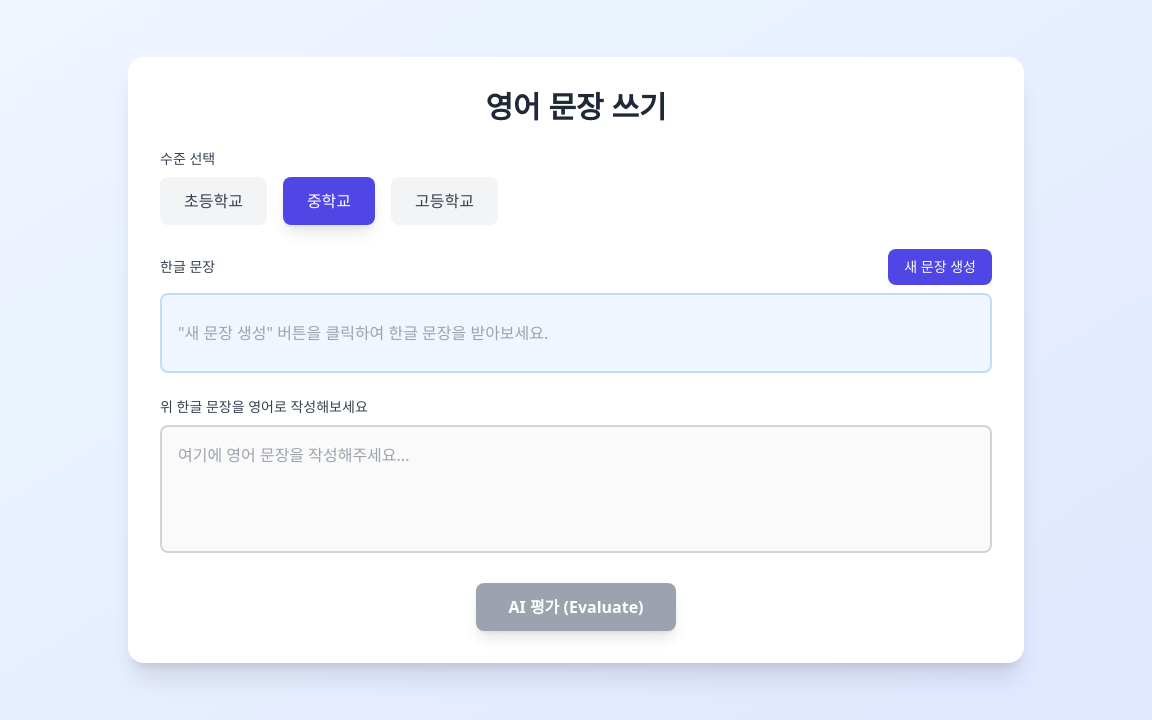
SentenceWritingPage › 한글 문장 생성 › 문장 생성 성공 시 한글 문장이 표시된다
What coordinates should you click on to do the following:
click the button "새 문장 생성"
I would click on:
 (940, 267)
Its box is x1=888 y1=249 x2=992 y2=285.
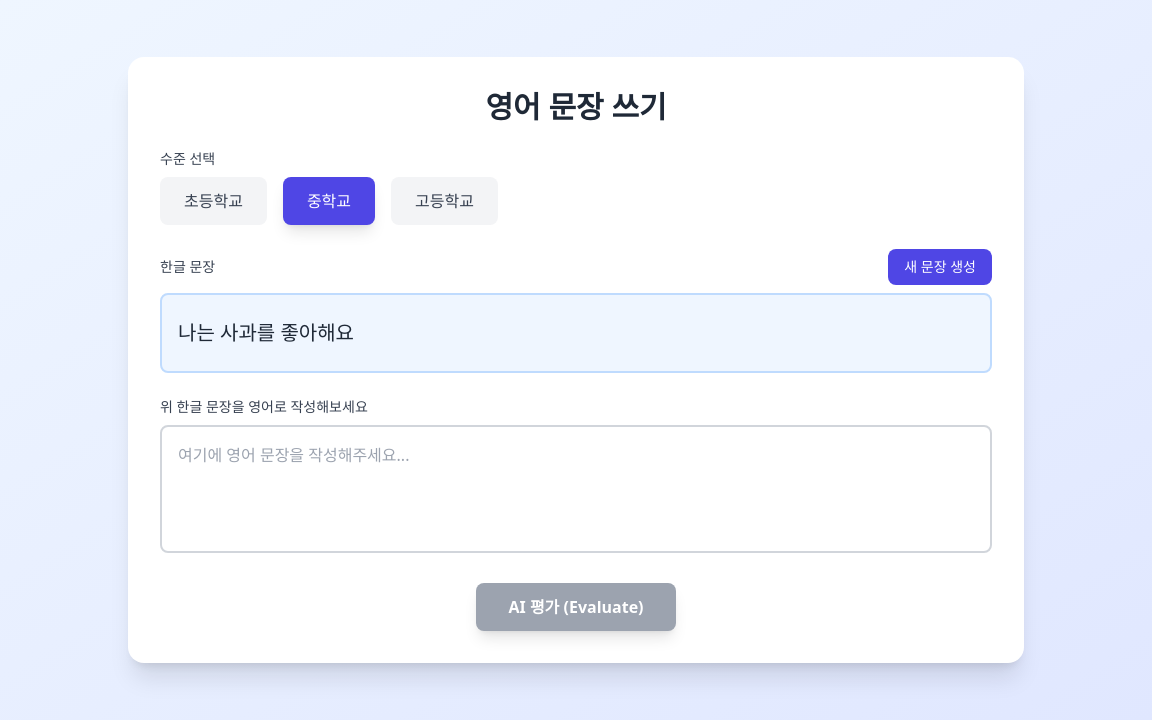
Expected: the text "나는 사과를 좋아해요" is shown, x1=178 y1=319 x2=354 y2=347
